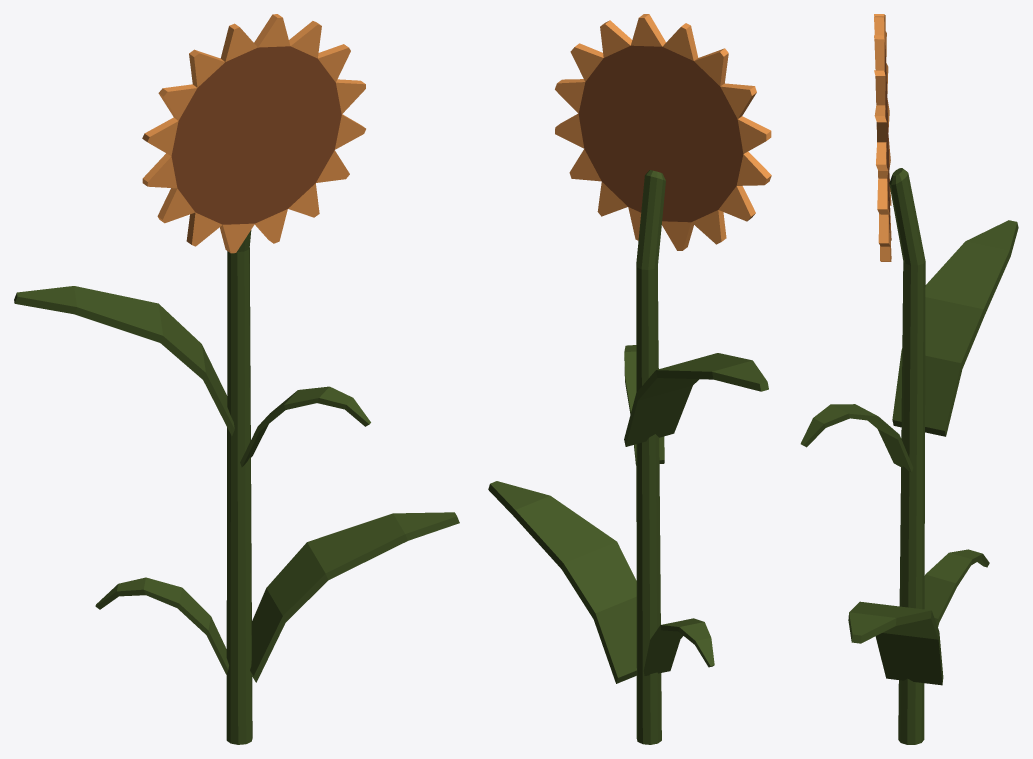
The model's file is SunFlower_1.fbx.
3 renders of one model, left to right at view 1: azimuth 30°, elevation 25°; view 2: azimuth 150°, elevation 25°; view 3: azimuth 270°, elevation 25°, orthographic. The views are drawn at different scales.
Parts seen in each view (by area): view 1: SunFlower_1; view 2: SunFlower_1; view 3: SunFlower_1.
Boxes of the visible parts, left/top/right/bottom form: SunFlower_1: left=14, top=14, right=459, bottom=744; SunFlower_1: left=488, top=14, right=771, bottom=744; SunFlower_1: left=800, top=14, right=1018, bottom=744.
Size of the model in its own units: 73.68 by 140 by 38.9.
